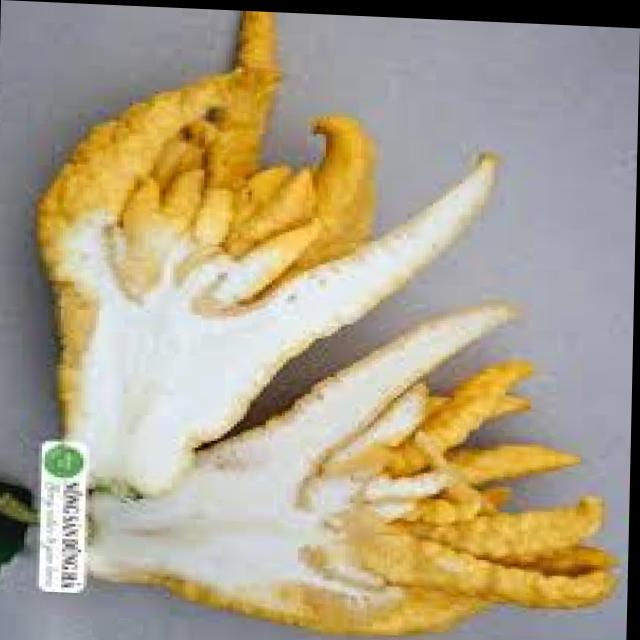PhatThu: (27, 4, 620, 640)
